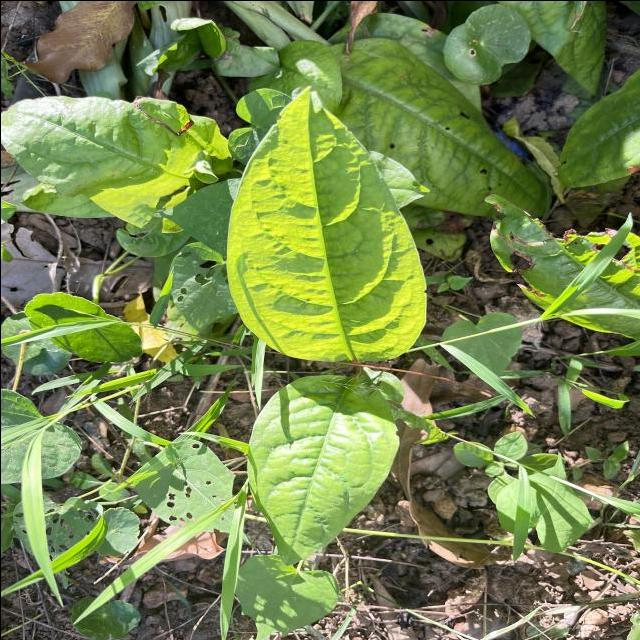Plumbago indica: (219, 78, 432, 370), (235, 368, 411, 570), (1, 86, 190, 217)
